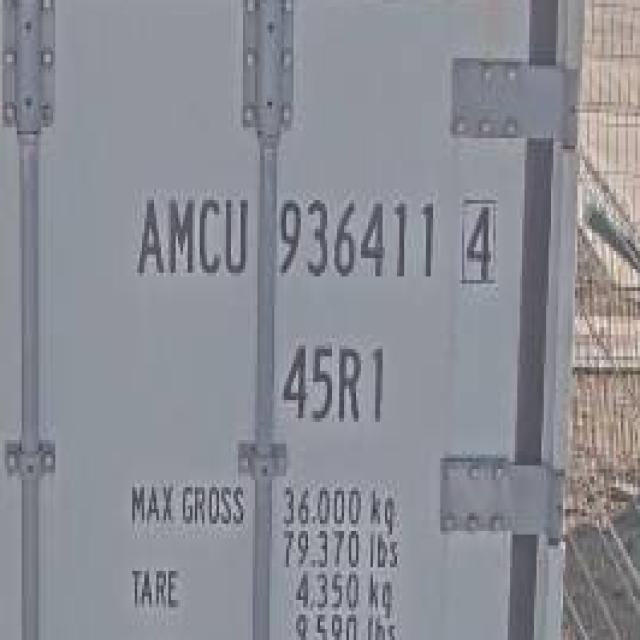dv: (448, 185, 510, 295)
owner: (126, 183, 250, 284)
serial: (274, 186, 442, 294)
size: (275, 331, 393, 426)
